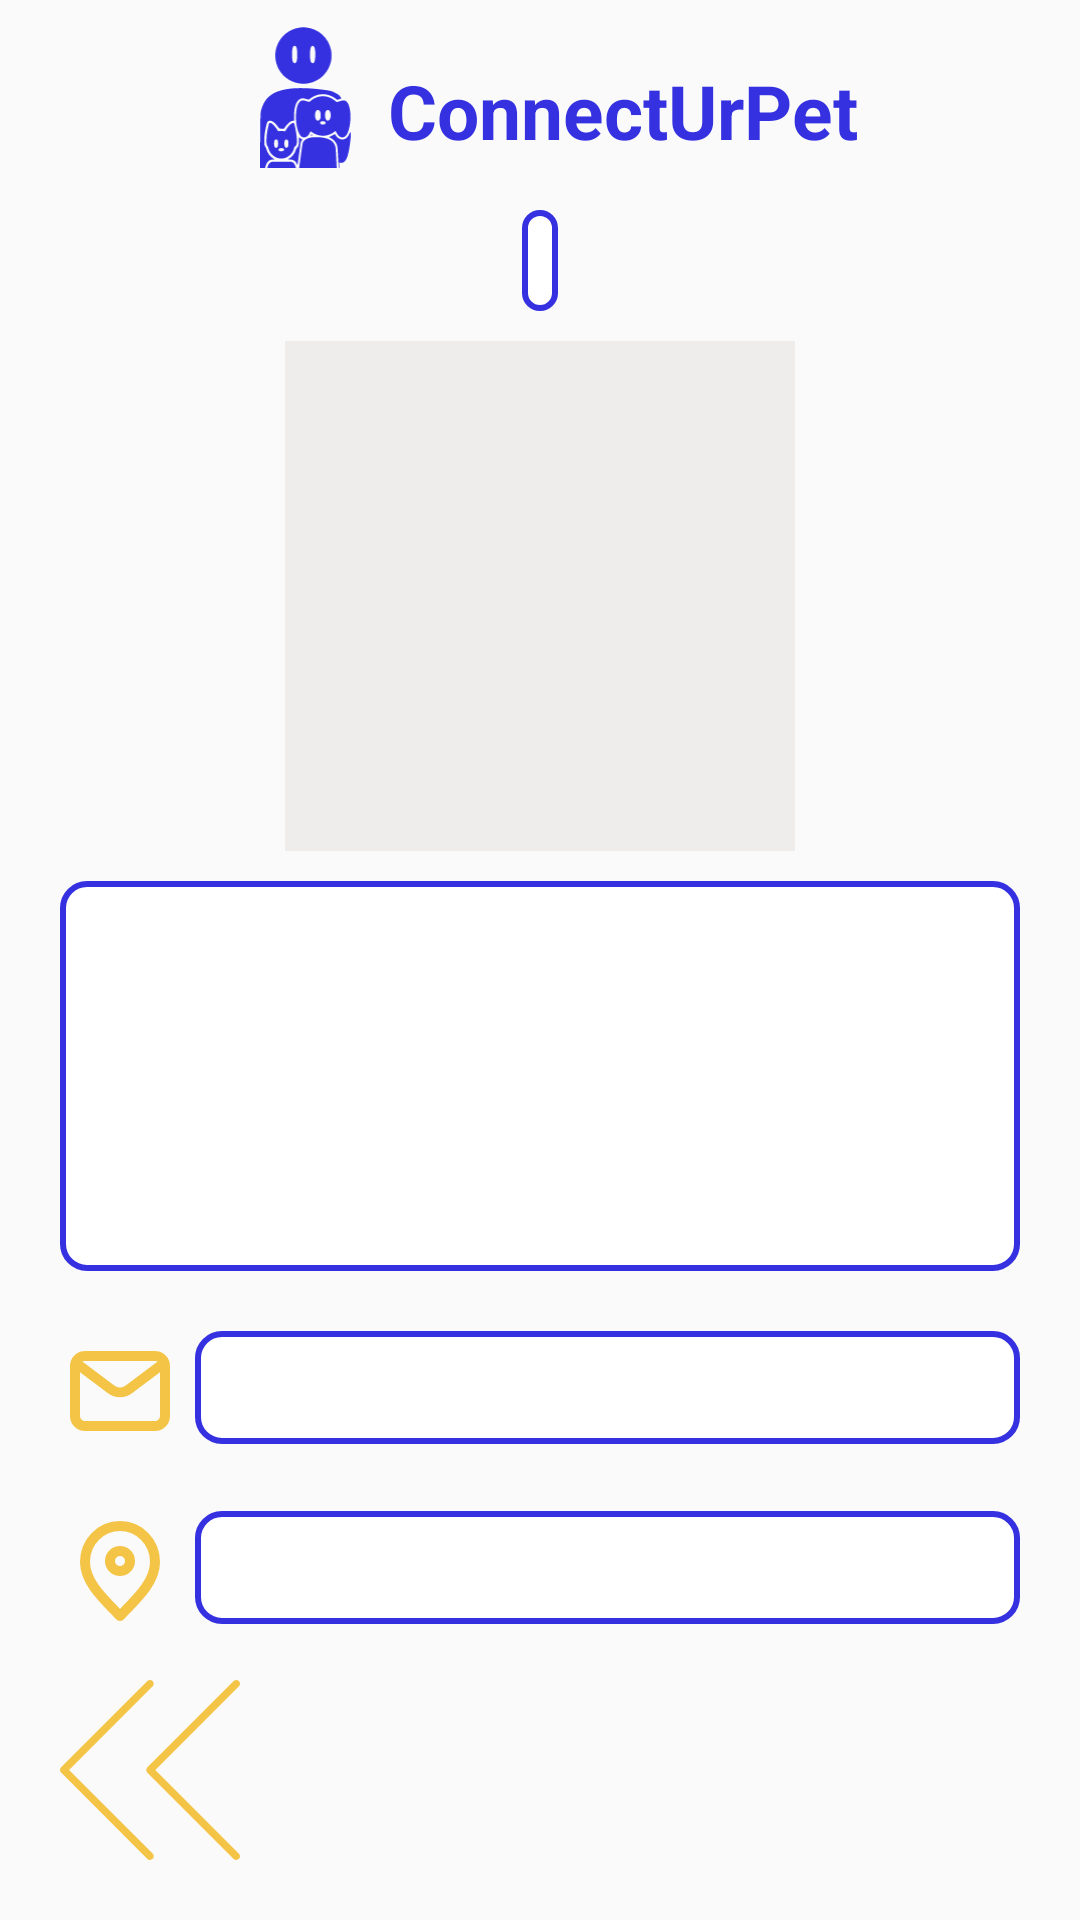

Where icons sit on this 1080w x 1920h app screen, as (x1, y1, x2, y2):
email: (70, 1351, 170, 1431)
location: (80, 1521, 160, 1621)
